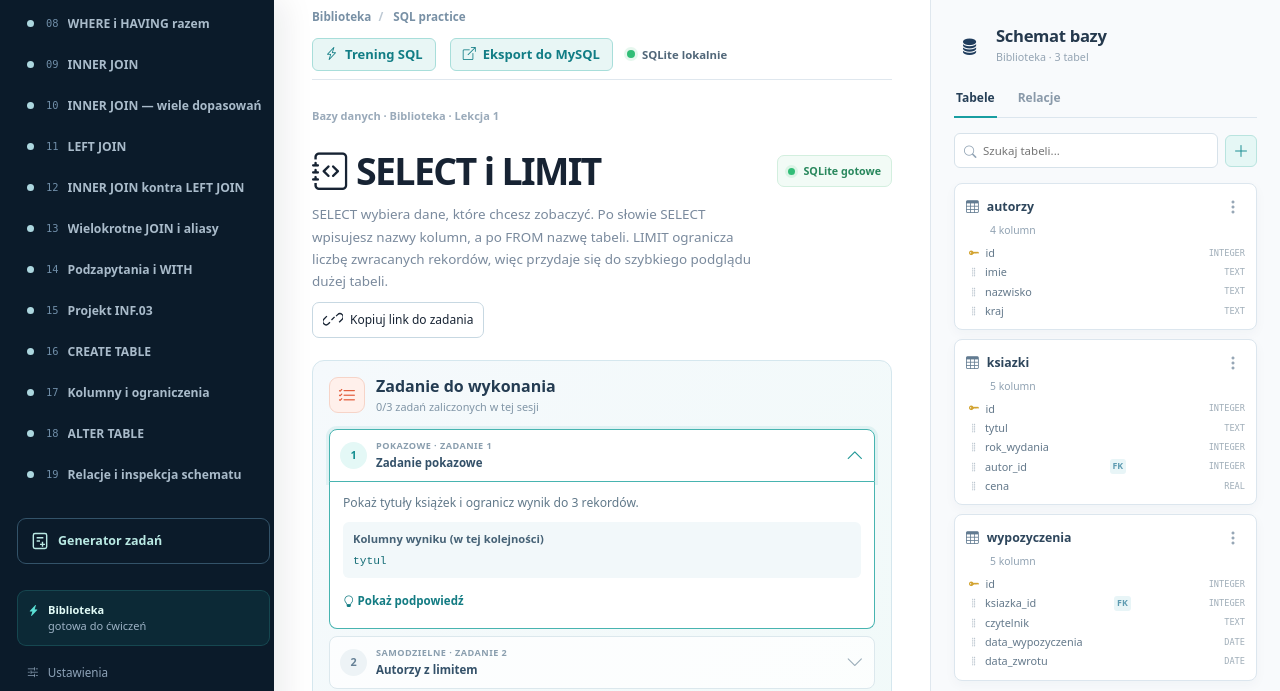
Test: factory reset clears local course data
(page scrolled)
Click the button "Ustawienia".
click(144, 673)  # box [17, 658, 270, 688]
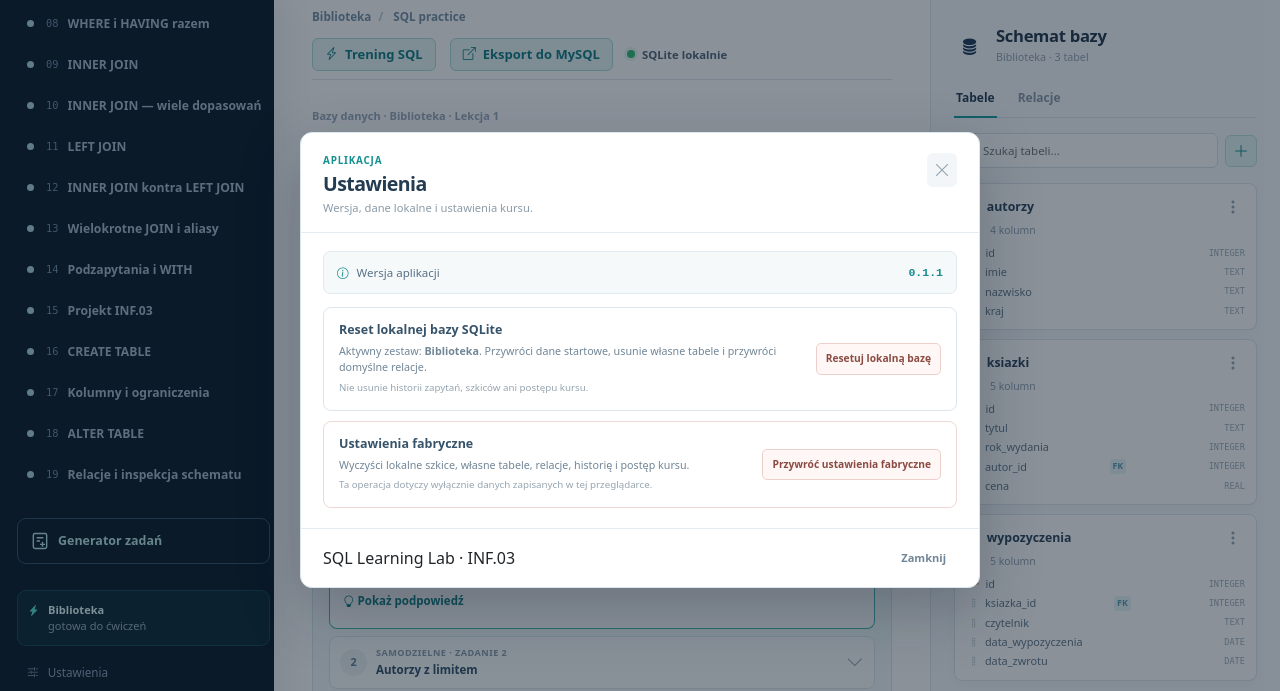
Click the button "Przywróć ustawienia fabryczne".
click(852, 464)  # box [762, 449, 941, 480]
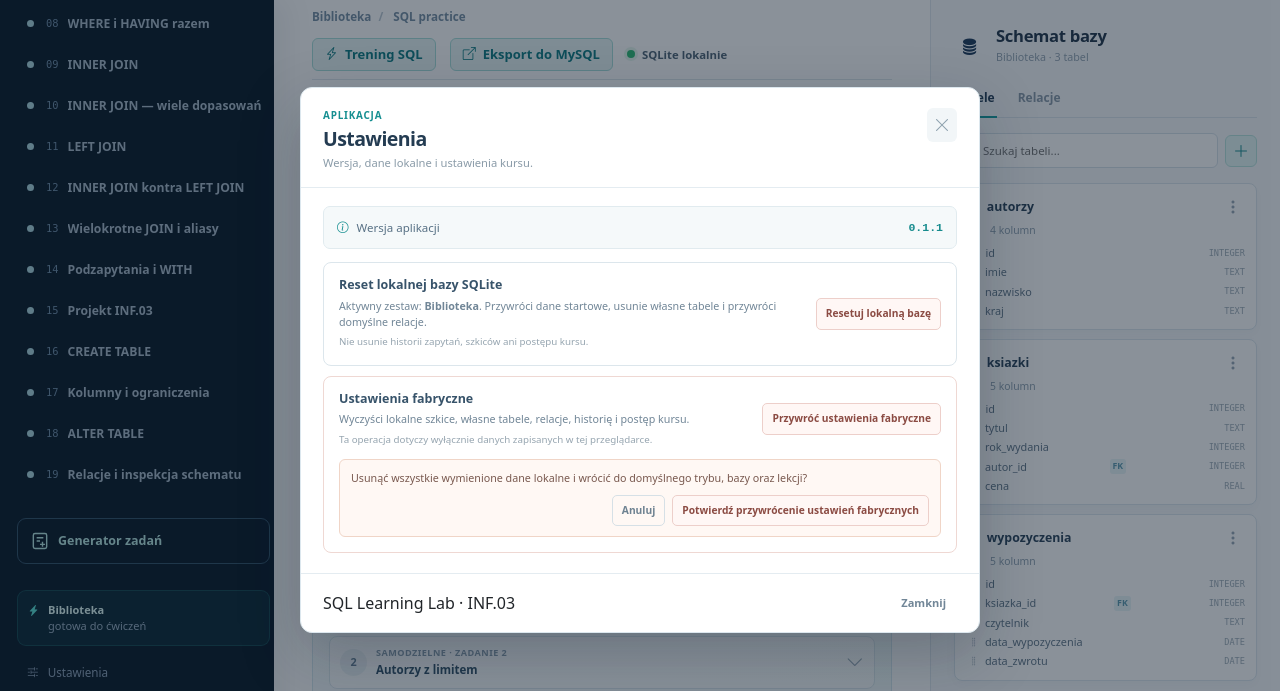
Click the button "Potwierdź przywrócenie ustawień fabrycznych".
click(801, 510)  # box [672, 495, 929, 526]
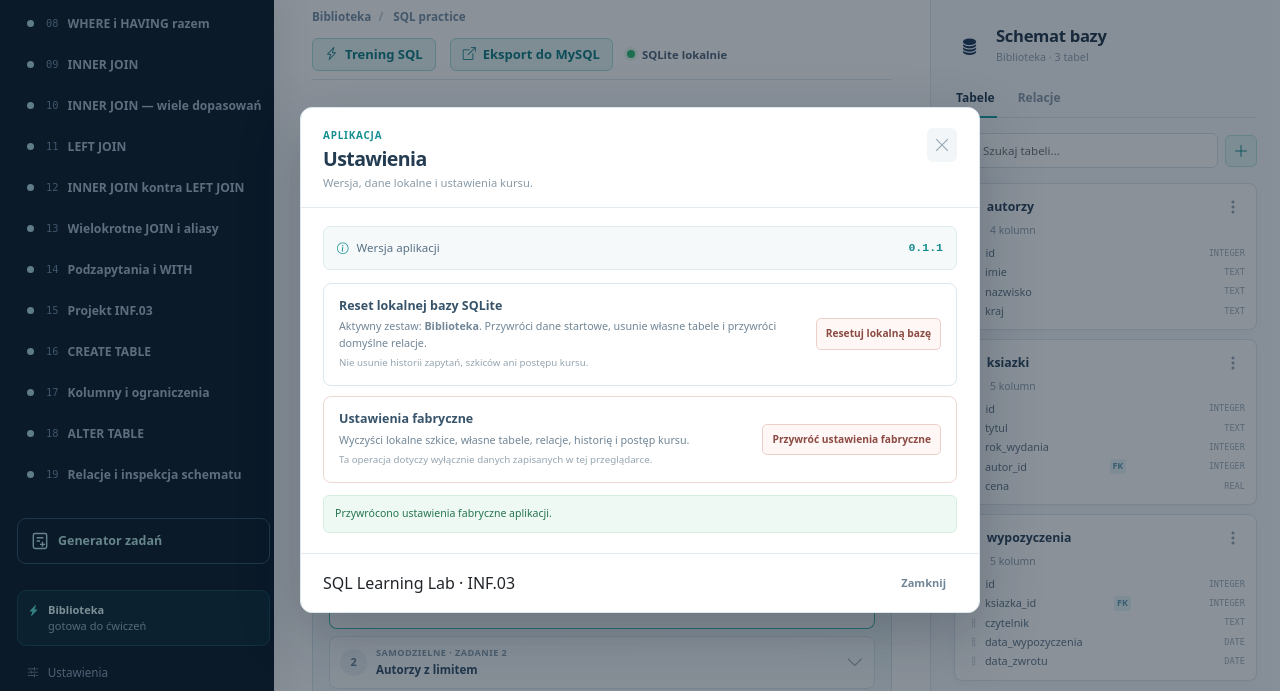
Check: the message shows "ustawienia fabryczne", box [335, 506, 552, 520]
